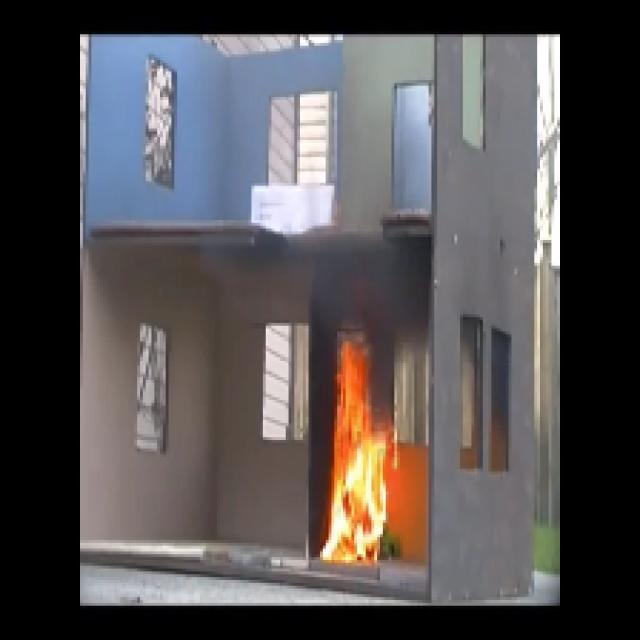Fire: (331, 352, 392, 558)
Smoke: (326, 253, 427, 318)
